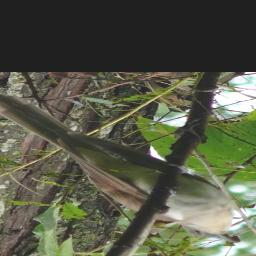Cuckoo: (0, 93, 241, 243)
